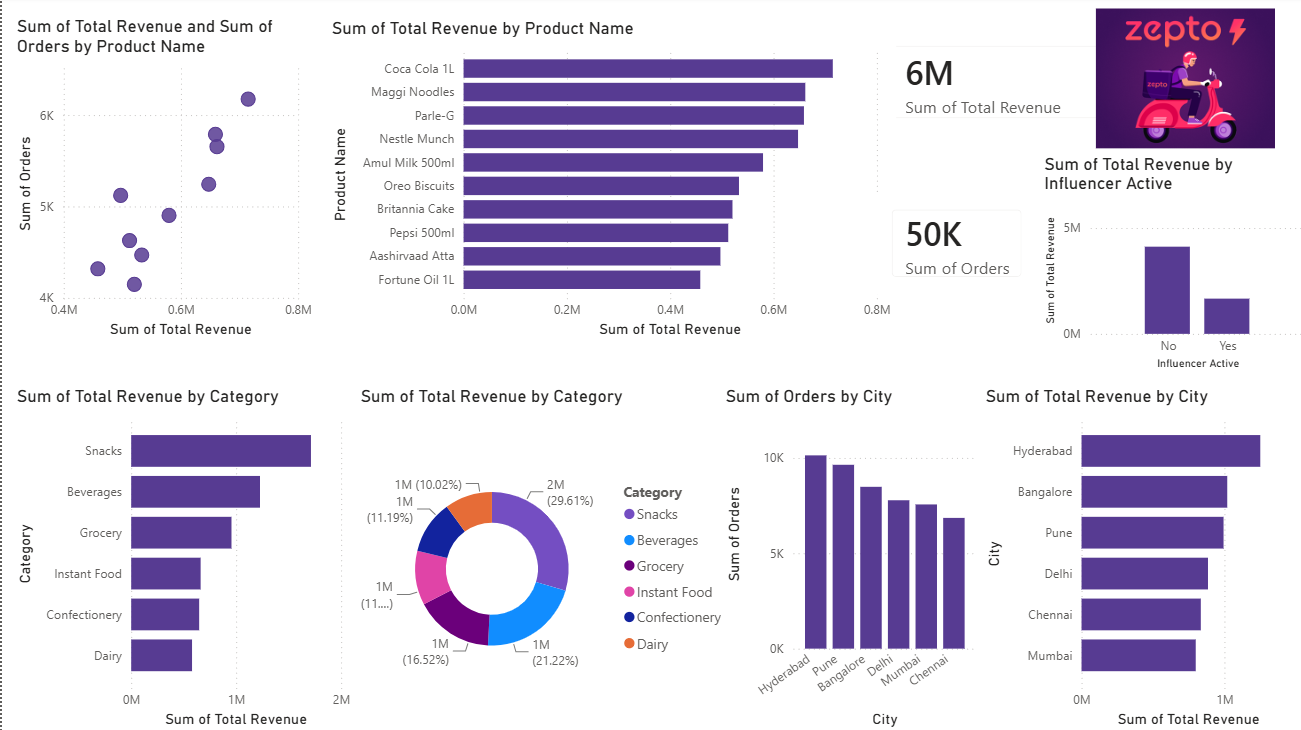

What the dashboard file says about the page in this screenshot:
{"tool":"powerbi","page":{"name":"Page 1","canvas":[1280,720],"ordinal":0},"visuals":[{"type":"clusteredBarChart","fields":{"Category":["zepto_sales_dataset.Category"],"Y":["Sum(zepto_sales_dataset.Total Revenue)"]},"box":[9.6,381.5,336.2,338.9],"z":0},{"type":"donutChart","fields":{"Category":["zepto_sales_dataset.Category"],"Y":["Sum(zepto_sales_dataset.Total Revenue)"]},"box":[345.8,381.5,371.9,338.9],"z":1000},{"type":"clusteredBarChart","fields":{"Category":["zepto_sales_dataset.City"],"Y":["Sum(zepto_sales_dataset.Total Revenue)"]},"box":[957.8,381.5,322.5,338.9],"z":2000},{"type":"cardVisual","fields":{"Data":["Sum(zepto_sales_dataset.Total Revenue)"]},"box":[853.5,31.6,252.5,105.7],"z":3000},{"type":"clusteredColumnChart","fields":{"Y":["Sum(zepto_sales_dataset.Orders)"],"Category":["zepto_sales_dataset.City"]},"box":[702.6,381.5,255.2,338.9],"z":4000},{"type":"clusteredBarChart","fields":{"Category":["zepto_sales_dataset.Product Name"],"Y":["Sum(zepto_sales_dataset.Total Revenue)"]},"box":[318.4,20.6,557.1,318.4],"z":5000},{"type":"columnChart","fields":{"Category":["zepto_sales_dataset.Influencer Active"],"Y":["Sum(zepto_sales_dataset.Total Revenue)"]},"box":[1015,154.1,265.4,216.4],"z":6000},{"type":"cardVisual","fields":{"Data":["Sum(zepto_sales_dataset.Orders)"]},"box":[853.5,192.1,161.9,100.2],"z":7000},{"type":"scatterChart","fields":{"X":["Sum(zepto_sales_dataset.Total Revenue)"],"Y":["Sum(zepto_sales_dataset.Orders)"],"Category":["zepto_sales_dataset.Product Name"]},"box":[9.6,19.2,299.1,319.7],"z":8000},{"type":"image","box":[1056.5,12.2,203,137],"z":9000}]}

Visuals, with their boxes in screenshot pixels (x1, y1, x2, y2), scaled from the page's 1280x720 canvas onto the 1301x730 screenshot:
clusteredBarChart - zepto_sales_dataset.Category x Sum(zepto_sales_dataset.Total Revenue): (10, 387, 351, 729)
donutChart - zepto_sales_dataset.Category x Sum(zepto_sales_dataset.Total Revenue): (351, 387, 729, 729)
clusteredBarChart - zepto_sales_dataset.City x Sum(zepto_sales_dataset.Total Revenue): (974, 387, 1300, 729)
cardVisual - Sum(zepto_sales_dataset.Total Revenue): (868, 32, 1124, 139)
clusteredColumnChart - Sum(zepto_sales_dataset.Orders) x zepto_sales_dataset.City: (714, 387, 974, 729)
clusteredBarChart - zepto_sales_dataset.Product Name x Sum(zepto_sales_dataset.Total Revenue): (324, 21, 890, 344)
columnChart - zepto_sales_dataset.Influencer Active x Sum(zepto_sales_dataset.Total Revenue): (1032, 156, 1300, 376)
cardVisual - Sum(zepto_sales_dataset.Orders): (868, 195, 1032, 296)
scatterChart - Sum(zepto_sales_dataset.Total Revenue) x Sum(zepto_sales_dataset.Orders): (10, 19, 314, 344)
image: (1074, 12, 1280, 151)
